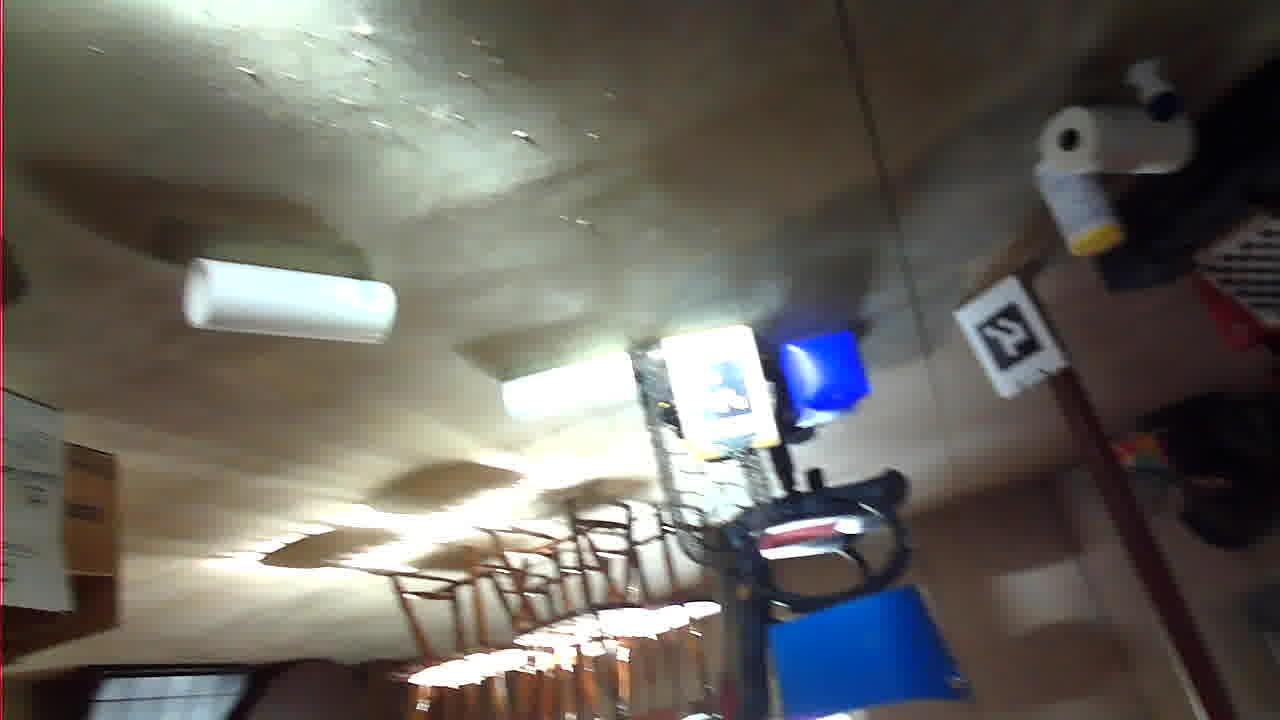coral: (885, 375, 1099, 464), (645, 300, 779, 364)
